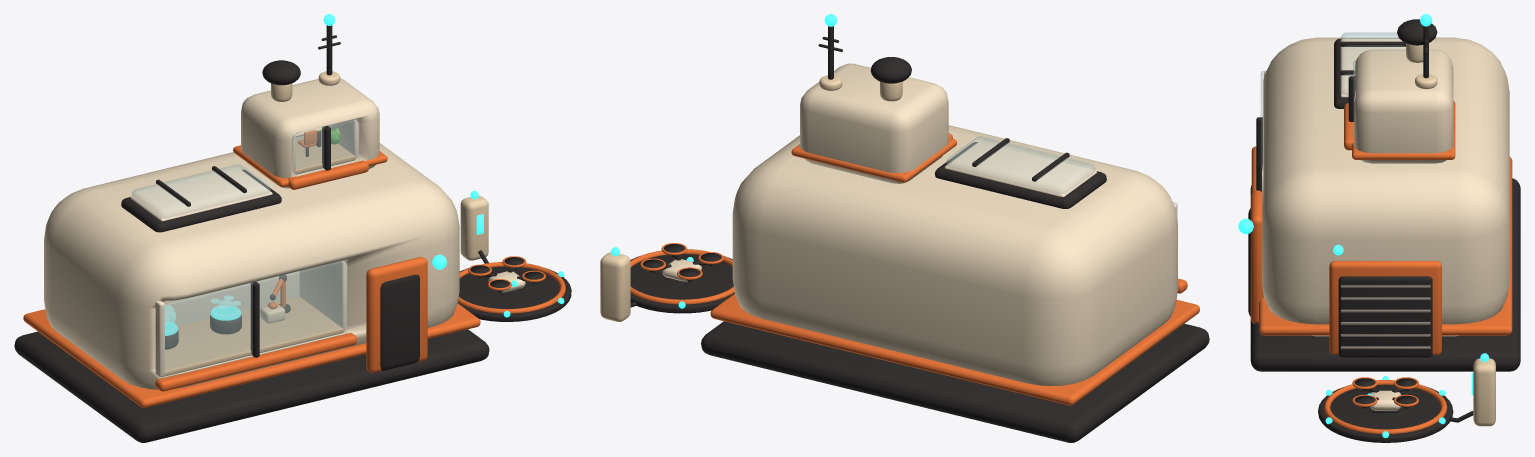
File: research-c-10.glb
3 views of the same model, side by side, from view 1: azimuth 30°, elevation 25°; view 2: azimuth 150°, elevation 25°; view 3: azimuth 270°, elevation 25° (orthographic). The views are drawn at different scales.
Parts seen in each view (by area): view 1: Cube.001, Cube, Cube.009, Cube.033, Cube.003, Cube.012, Cube.030, Cylinder.010, Cube.014, Cube.029, Cube.013, Cube.002 (+13 smaller); view 2: Cube.001, Cube, Cube.033, Cube.012, Cube.030, Cube.029, Cylinder.010, Cube.028, Cube.026, Cube.051, Torus.002, Sphere.018; view 3: Cube.001, Cube.033, Cube, Cube.016, Cylinder.010, Cube.015, Cube.012, Cube.026, Cube.013, Cube.030, Torus.002, Cube.029 (+13 smaller).
Part boxes in pixels (x1,y1,x2,y2): Cube.001: (44, 143, 459, 389); Cube: (14, 329, 489, 442); Cube.009: (161, 260, 347, 378); Cube.033: (241, 78, 379, 188); Cube.003: (163, 296, 345, 376); Cube.012: (23, 303, 480, 407); Cube.030: (132, 164, 270, 218); Cylinder.010: (458, 266, 571, 321); Cube.014: (380, 274, 419, 370); Cube.029: (130, 170, 272, 221); Cube.013: (366, 257, 427, 372); Cube.002: (163, 271, 299, 325); Cube.001: (732, 125, 1177, 385); Cube: (701, 321, 1209, 442); Cube.033: (800, 63, 948, 183); Cube.012: (710, 293, 1199, 405); Cube.030: (946, 136, 1095, 193); Cube.029: (944, 142, 1096, 196); Cylinder.010: (630, 254, 734, 313); Cube.028: (935, 142, 1106, 208); Cube.026: (600, 252, 630, 321); Cube.051: (791, 138, 956, 182); Torus.002: (630, 249, 734, 304); Sphere.018: (870, 57, 911, 83); Cube.001: (1262, 37, 1509, 336); Cube.033: (1354, 49, 1453, 163); Cube: (1250, 178, 1520, 371); Cube.016: (1338, 276, 1432, 357); Cylinder.010: (1318, 384, 1453, 442); Cube.015: (1329, 261, 1441, 354); Cube.012: (1259, 157, 1512, 335); Cube.026: (1473, 358, 1495, 426); Cube.013: (1250, 190, 1263, 323); Cube.030: (1340, 32, 1405, 95); Torus.002: (1324, 380, 1447, 433); Cube.029: (1340, 39, 1405, 97).
Size of the model in its own units: 2.63 by 1.57 by 1.26.
